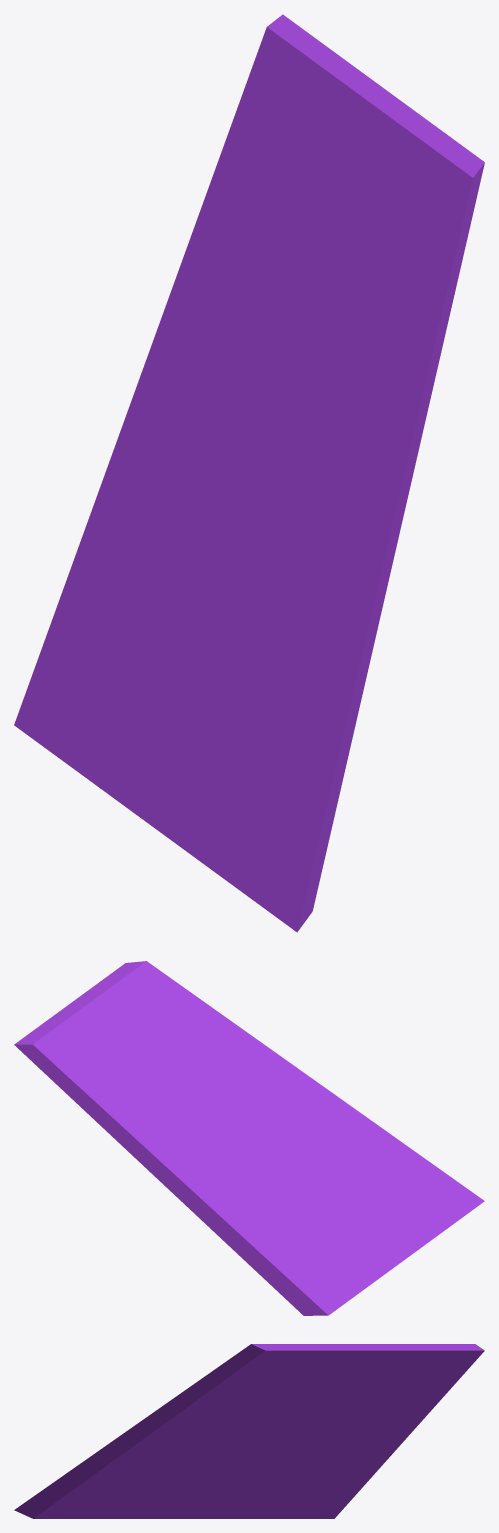
Rendered from Window_54_chunks.fbx.
3 renders of one model, top to bottom at view 1: azimuth 30°, elevation 25°; view 2: azimuth 150°, elevation 25°; view 3: azimuth 270°, elevation 25°, orthographic. The views are drawn at different scales.
Parts seen in each view (by area): view 1: Window_54_2, Window_54_8, Window_54_5, Window_54_6, Window_54_18, Window_54_12, Window_54_1, Window_54_20, Window_54_9, Window_54_15, Window_54_11, Window_54_17 (+13 smaller); view 2: Window_54_2, Window_54_8, Window_54_6, Window_54_5, Window_54_18, Window_54_12, Window_54_1, Window_54_9, Window_54_20, Window_54_15, Window_54_24, Window_54_11 (+13 smaller); view 3: Window_54_6, Window_54_8, Window_54_5, Window_54_1, Window_54_2, Window_54_10, Window_54_12, Window_54_9, Window_54_24, Window_54_22, Window_54_19, Window_54_27 (+12 smaller).
Boxes of the visible parts, x1,y1,x2,y2 form: Window_54_2: [14, 516, 219, 784]; Window_54_8: [87, 293, 248, 521]; Window_54_5: [296, 365, 433, 629]; Window_54_6: [359, 125, 484, 384]; Window_54_18: [170, 83, 302, 296]; Window_54_12: [238, 643, 366, 791]; Window_54_1: [103, 458, 258, 592]; Window_54_20: [201, 784, 331, 883]; Window_54_9: [278, 139, 413, 414]; Window_54_15: [274, 549, 377, 683]; Window_54_11: [95, 696, 244, 820]; Window_54_17: [286, 121, 434, 282]; Window_54_2: [239, 1179, 373, 1315]; Window_54_8: [132, 1109, 242, 1247]; Window_54_6: [98, 961, 232, 1055]; Window_54_5: [218, 1022, 346, 1113]; Window_54_18: [53, 1055, 150, 1152]; Window_54_12: [334, 1122, 421, 1191]; Window_54_1: [231, 1133, 301, 1259]; Window_54_9: [116, 986, 226, 1110]; Window_54_20: [401, 1156, 462, 1237]; Window_54_15: [301, 1103, 373, 1159]; Window_54_24: [14, 1018, 82, 1080]; Window_54_11: [357, 1188, 400, 1282]; Window_54_6: [191, 1344, 319, 1404]; Window_54_8: [276, 1410, 423, 1476]; Window_54_5: [111, 1386, 244, 1455]; Window_54_1: [217, 1437, 371, 1484]; Window_54_2: [233, 1483, 364, 1518]; Window_54_10: [160, 1471, 244, 1518]; Window_54_12: [58, 1455, 183, 1492]; Window_54_9: [275, 1355, 345, 1437]; Window_54_24: [403, 1344, 484, 1378]; Window_54_22: [14, 1493, 129, 1518]; Window_54_19: [337, 1382, 425, 1418]; Window_54_27: [321, 1344, 416, 1367].
Size of the model in its own units: 833 by 947 by 1493.
